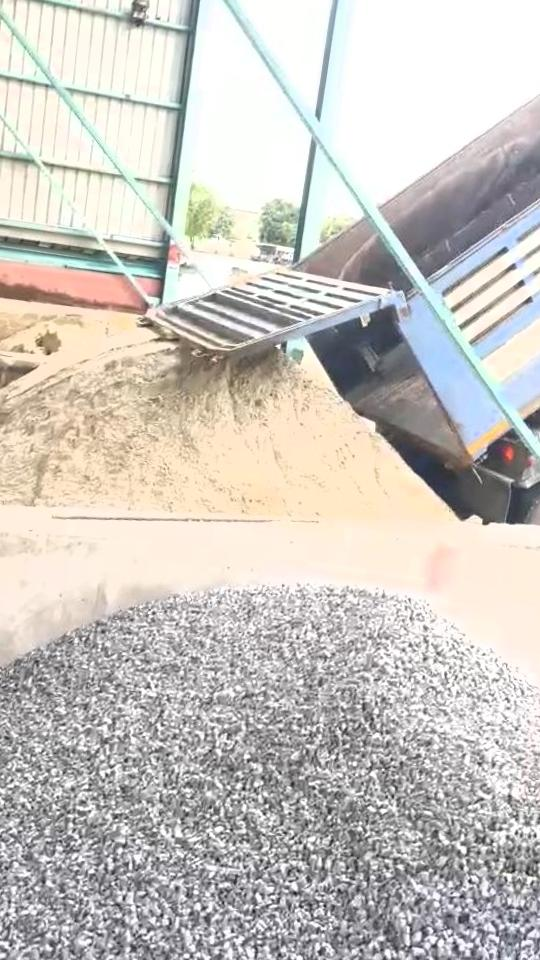gravel: (0, 586, 540, 960)
sand: (0, 328, 452, 520), (0, 318, 107, 355)
